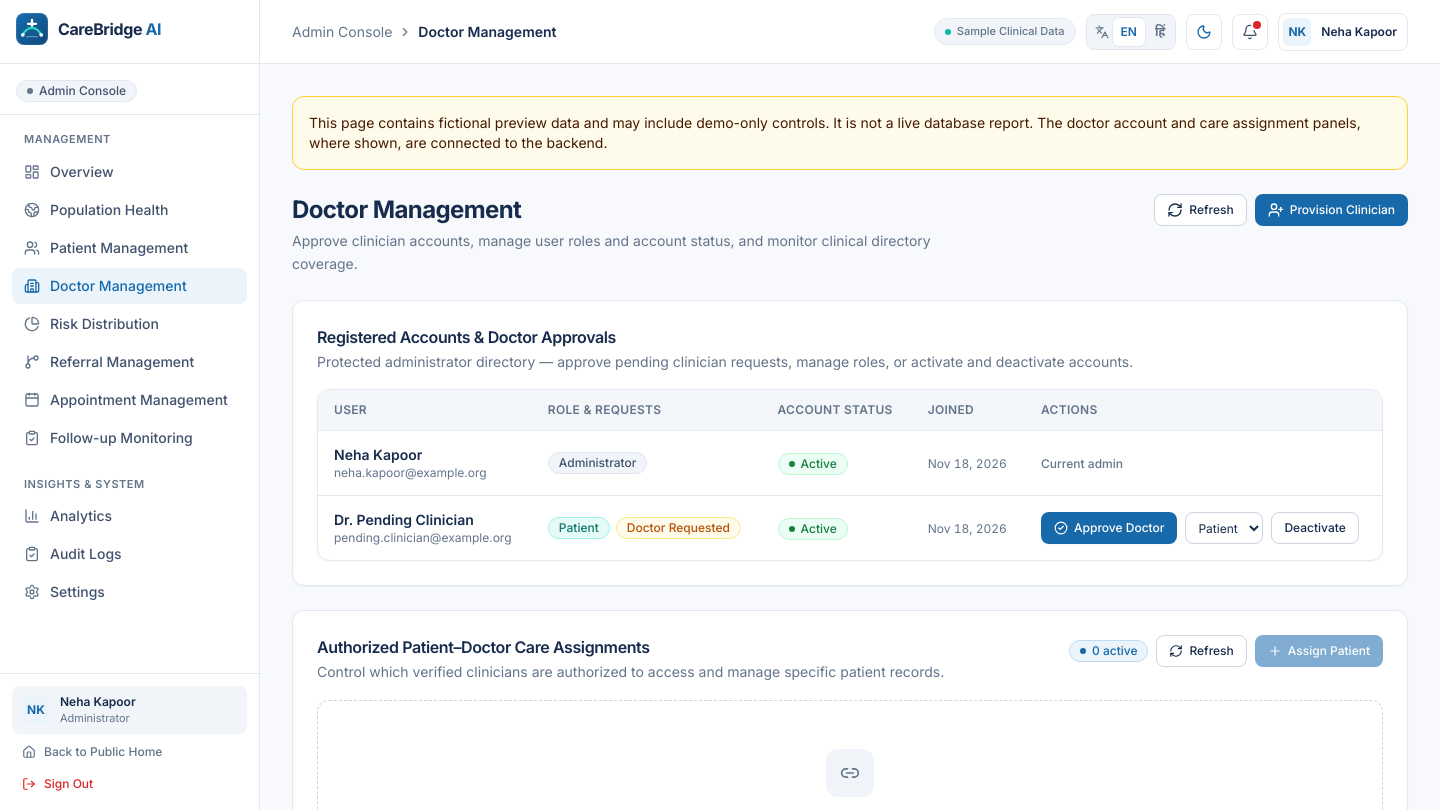
CareBridge AI — Frontend Authentication, RBAC & UI Suite › allows ADMIN to approve a pending doctor request on Doctor Management
Step 1. Click the button "Approve Doctor" → [1109, 528], box [1041,512,1177,544]
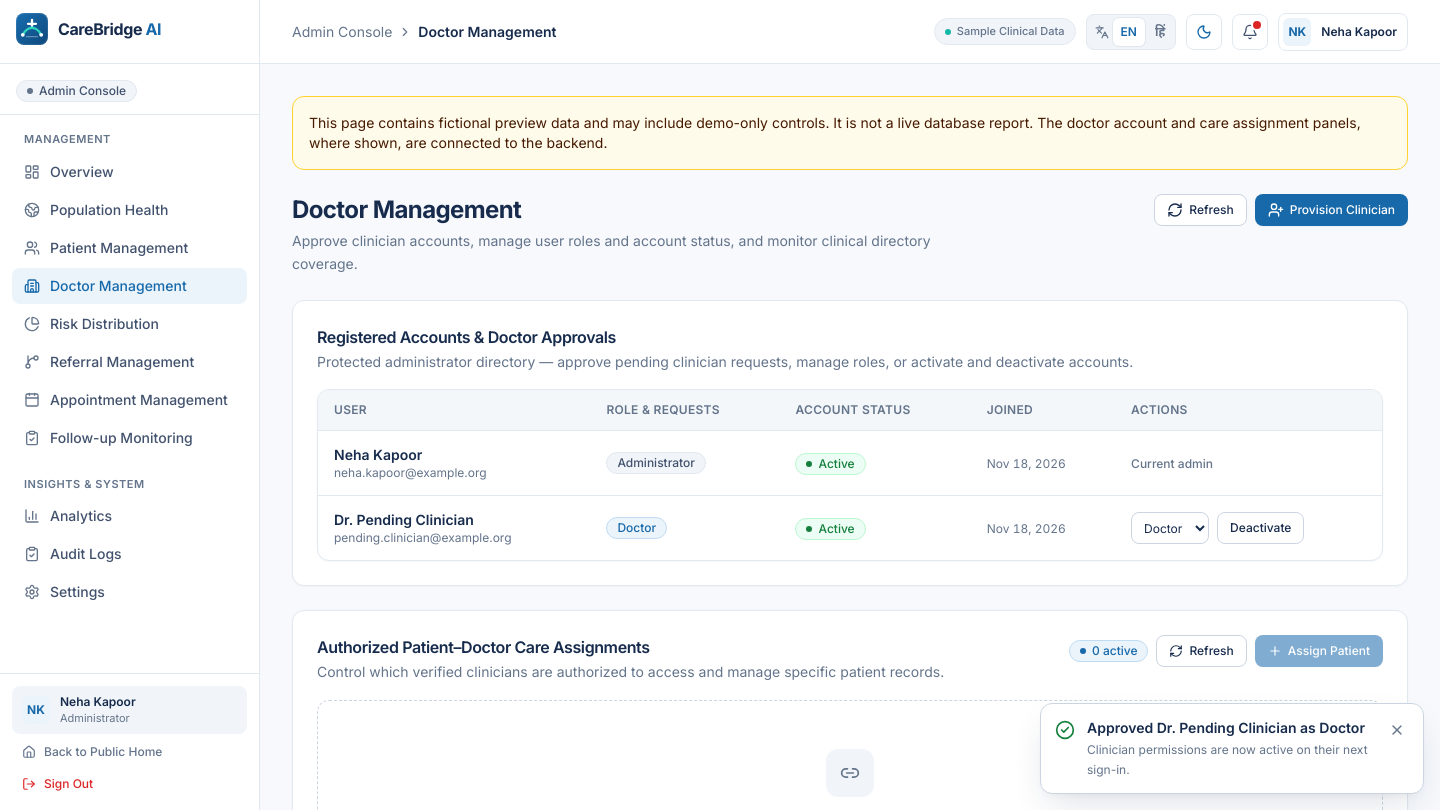
Now the button "Approve Doctor" is gone
